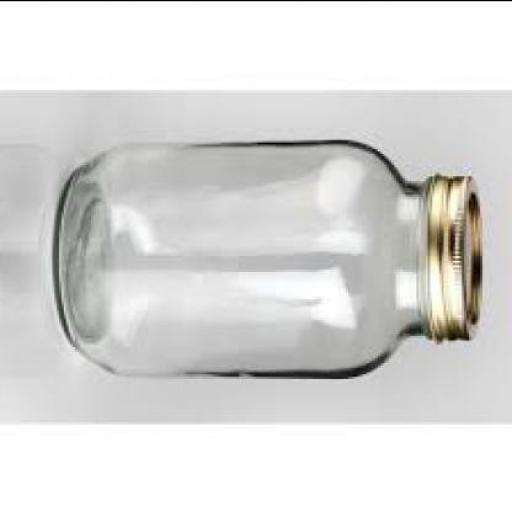glass: (55, 136, 439, 378)
metal: (430, 170, 484, 336)
